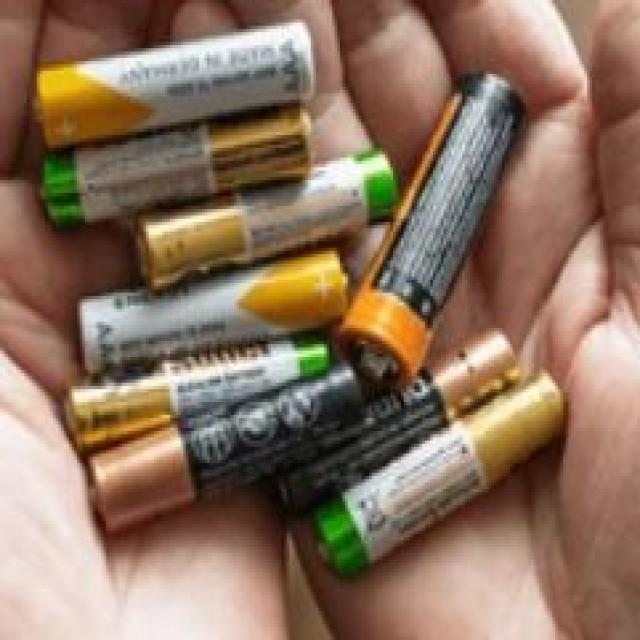electronic: (310, 38, 530, 413)
